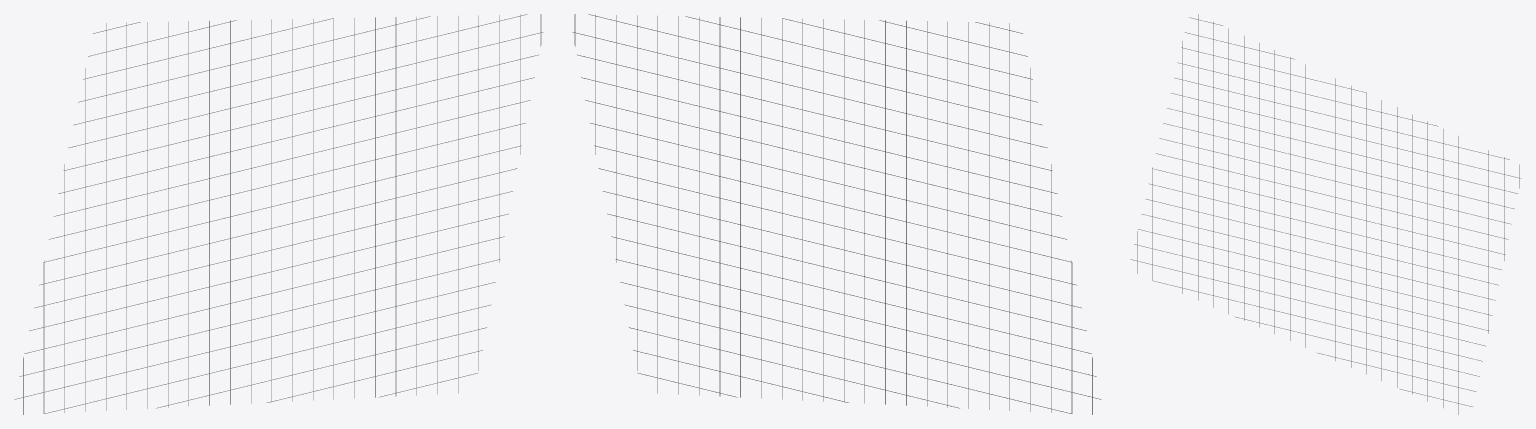
3 renders of one model, left to right at view 1: azimuth 30°, elevation 25°; view 2: azimuth 150°, elevation 25°; view 3: azimuth 330°, elevation 25°, orthographic. The views are drawn at different scales.
Visible parts, largest first — view 1: part_0000; view 2: part_0000; view 3: part_0000.
Boxes of the visible parts, box(x1,y1,x2,y2) form: part_0000: box(14, 14, 543, 414); part_0000: box(572, 14, 1101, 414); part_0000: box(1130, 14, 1521, 414).
Bounding box in the file's own units: 7.67 × 6.32 × 0.
